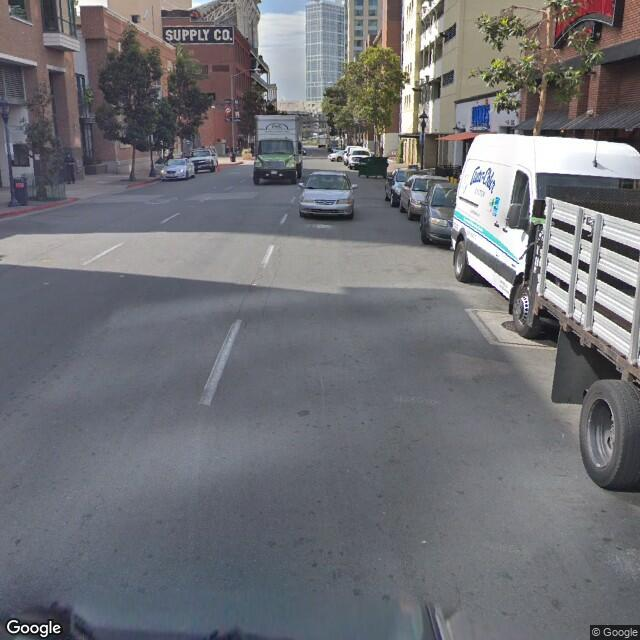road line: (198, 231, 277, 422), (73, 210, 183, 274)
